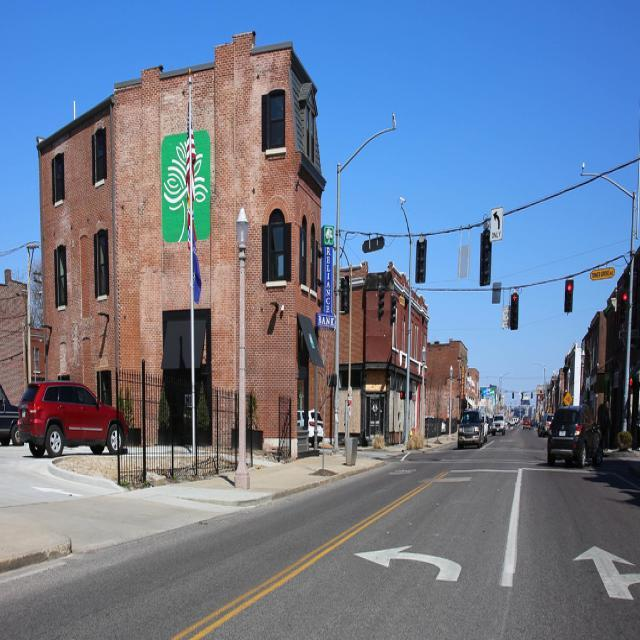off traffic light: (481, 232, 496, 284), (566, 280, 574, 313)
traffic light: (510, 295, 518, 332)
